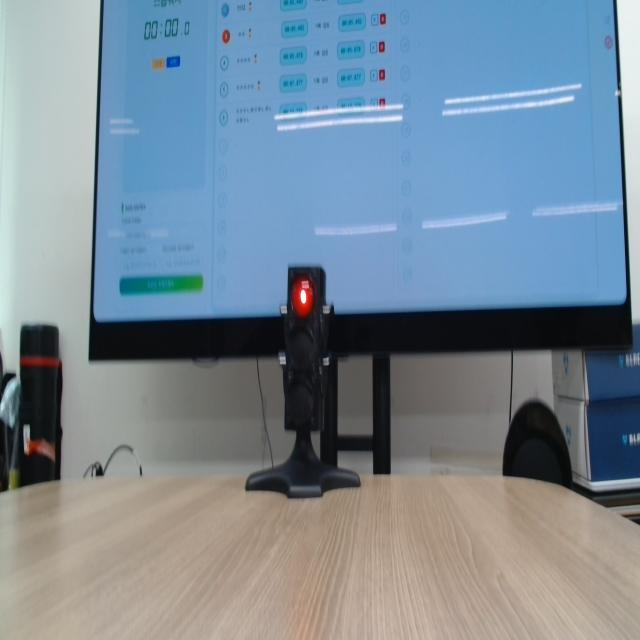red_light: (292, 278, 314, 318)
